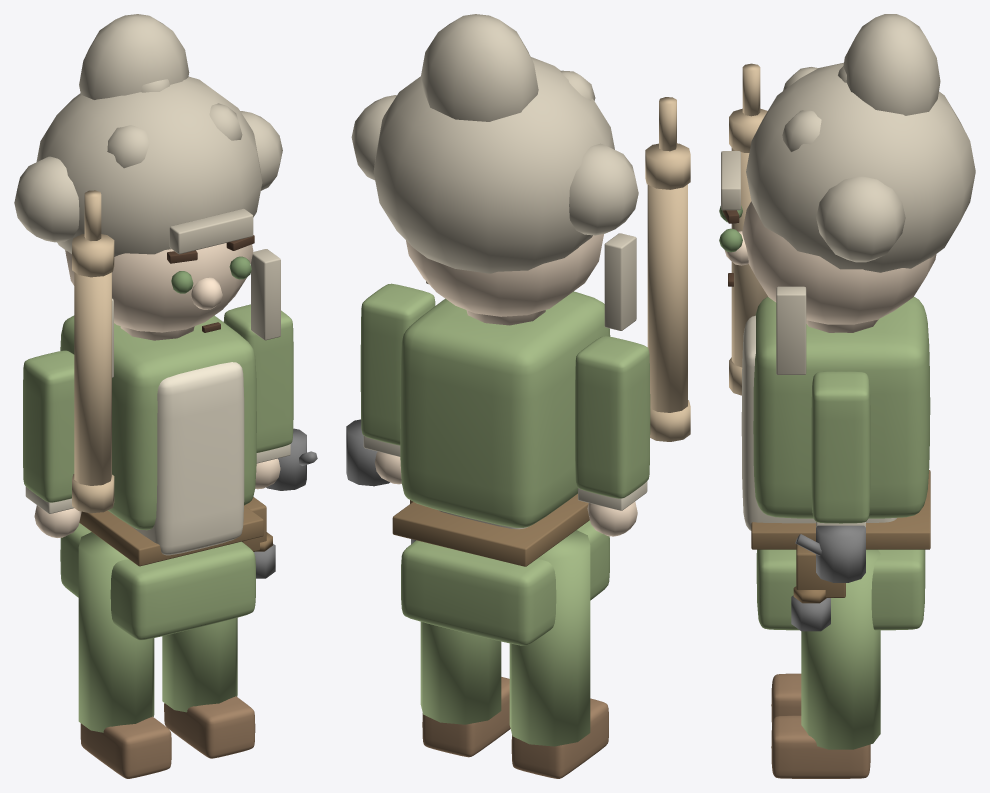
The model's file is npc_maud_pennycress_v1.glb.
The picture shows the model from 3 angles, left to right: view 1: azimuth 30°, elevation 25°; view 2: azimuth 150°, elevation 25°; view 3: azimuth 270°, elevation 25°; orthographic projection. The views are drawn at different scales.
Visible parts, largest first — view 1: Hair_Dome, Apron_Body, Tunic_Body, Skirt, Pants_L, Head_Mesh, RollPin_Body, Sleeve_L, Hair_Poof, Pants_R, Sleeve_R, Hair_Wisp_L (+18 smaller); view 2: Tunic_Body, Hair_Dome, Skirt, Pants_L, Sleeve_L, Hair_Poof, RollPin_Body, Head_Mesh, Pants_R, Sleeve_R, Belt, Hair_Wisp_L (+12 smaller); view 3: Hair_Dome, Tunic_Body, Pants_R, Head_Mesh, Sleeve_R, Hair_Poof, Skirt, Hair_Wisp_R, Boot_R, Belt, Apron_Body, Hair_Side_R (+10 smaller).
Boxes of the visible parts, box(x1,y1,x2,y2) form: Hair_Dome: box(36, 76, 262, 256); Apron_Body: box(131, 362, 244, 555); Tunic_Body: box(60, 315, 256, 530); Skirt: box(60, 523, 255, 640); Pants_L: box(78, 532, 154, 732); Head_Mesh: box(65, 243, 253, 332); RollPin_Body: box(74, 272, 111, 485); Sleeve_L: box(23, 350, 74, 502); Hair_Poof: box(79, 14, 189, 99); Pants_R: box(162, 617, 237, 712); Sleeve_R: box(223, 304, 293, 452); Hair_Wisp_L: box(14, 156, 79, 242); Tunic_Body: box(400, 291, 610, 527); Hair_Dome: box(373, 57, 614, 273); Skirt: box(401, 520, 609, 645); Pants_L: box(509, 530, 590, 746); Sleeve_L: box(575, 336, 650, 498); Hair_Poof: box(421, 14, 538, 121); RollPin_Body: box(647, 184, 687, 412); Head_Mesh: box(406, 234, 603, 316); Pants_R: box(420, 622, 501, 724); Sleeve_R: box(360, 283, 435, 445); Belt: box(392, 494, 589, 566); Hair_Wisp_L: box(569, 143, 638, 235); Hair_Dome: box(746, 62, 975, 272); Tunic_Body: box(753, 297, 930, 518); Pants_R: box(801, 549, 880, 749); Head_Mesh: box(742, 201, 936, 324); Sleeve_R: box(811, 371, 870, 523); Hair_Poof: box(843, 14, 940, 115); Skirt: box(756, 549, 925, 630); Hair_Wisp_R: box(816, 176, 905, 262); Boot_R: box(771, 715, 870, 778); Belt: box(751, 470, 930, 549); Apron_Body: box(741, 315, 896, 530); Hair_Side_R: box(776, 286, 806, 374).
Bounding box in the file's own units: 0.6531 × 1.62 × 0.516.
